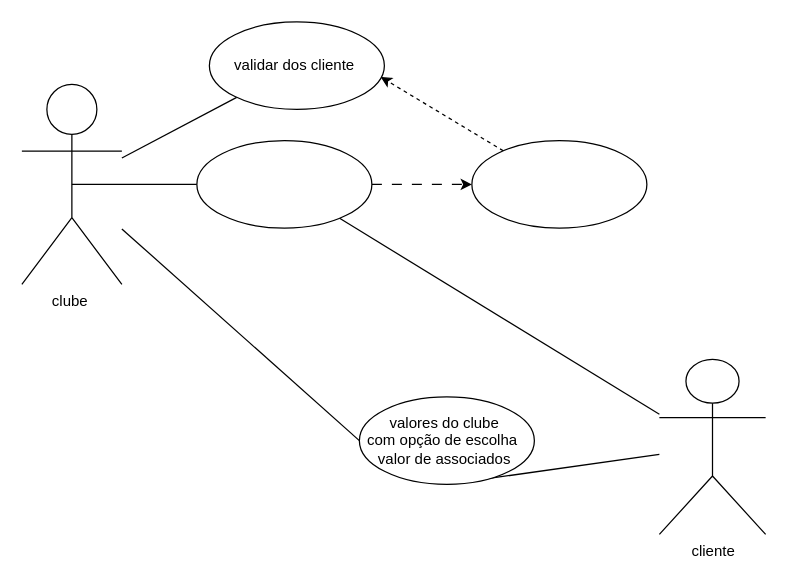
This 788x583 diagram has some shape labels left out. The box of each missing label's shape, as (x1, y1, x2, y2) in pixels:
enviar comprovante por email: (471, 139, 647, 228)
msg automáticas com opção de cadastros e login: (196, 139, 372, 228)
